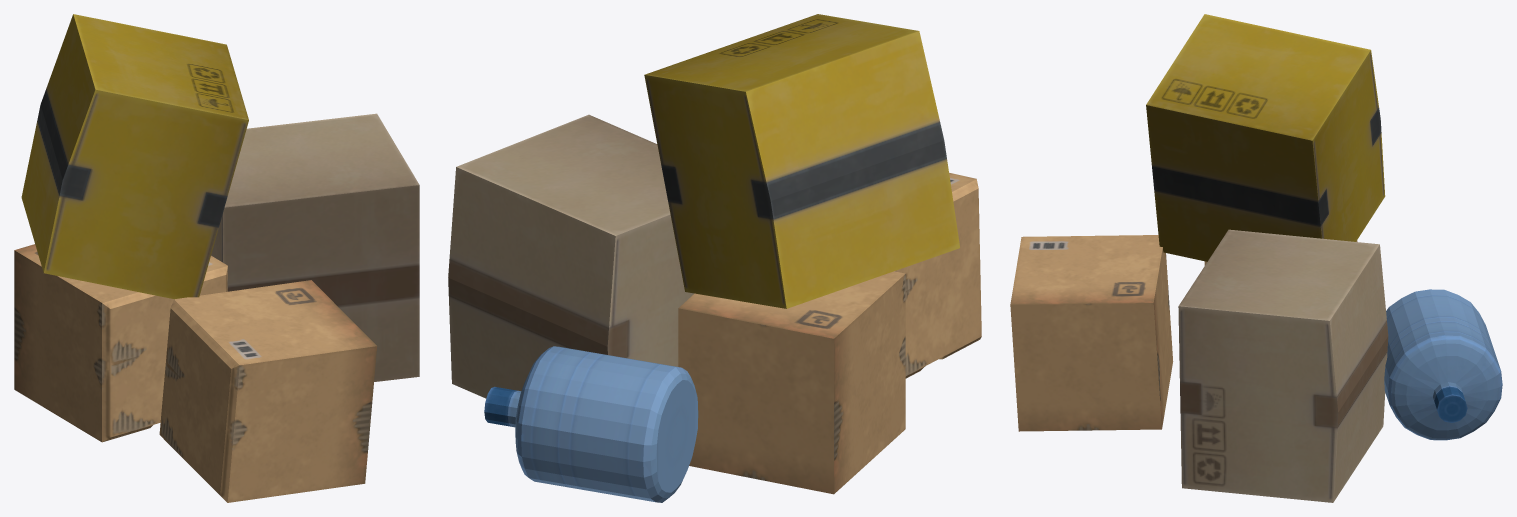
File: P_NEWMaket01_after16.obj
3 renders of one model, left to right at view 1: azimuth 30°, elevation 25°; view 2: azimuth 150°, elevation 25°; view 3: azimuth 270°, elevation 25°, orthographic. The views are drawn at different scales.
Size of the model in its own units: 1.78 by 1.56 by 2.05.
Materials: 5 (5 with a texture image).
